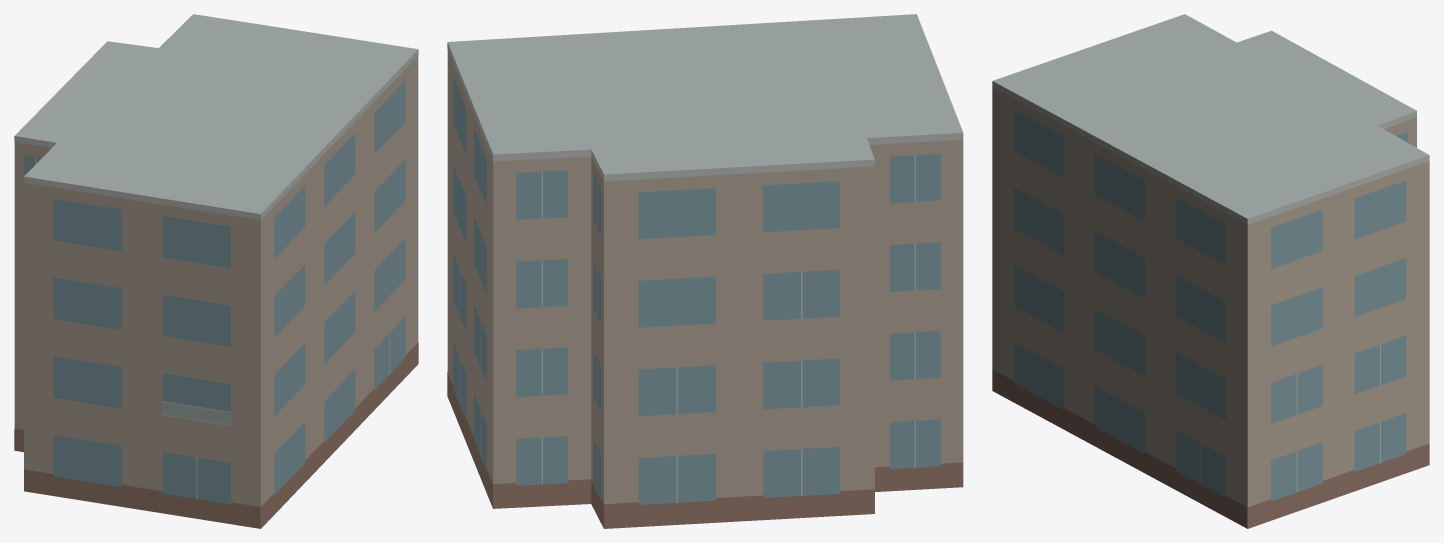
The model's file is survey-upis-32816422.glb.
3 renders of one model, left to right at view 1: azimuth 30°, elevation 25°; view 2: azimuth 150°, elevation 25°; view 3: azimuth 270°, elevation 25°, orthographic. The views are drawn at different scales.
Visible parts, largest first — view 1: survey-upis-32816422.tmp; view 2: survey-upis-32816422.tmp; view 3: survey-upis-32816422.tmp.
Boxes of the visible parts, x1,y1,x2,y2 form: survey-upis-32816422.tmp: (14, 14, 418, 528); survey-upis-32816422.tmp: (447, 14, 963, 528); survey-upis-32816422.tmp: (992, 14, 1429, 528).
Size of the model in its own units: 17.73 by 12.5 by 15.99.
